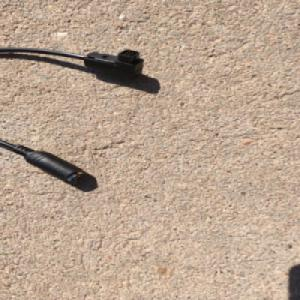Wire: (0, 44, 147, 185)
